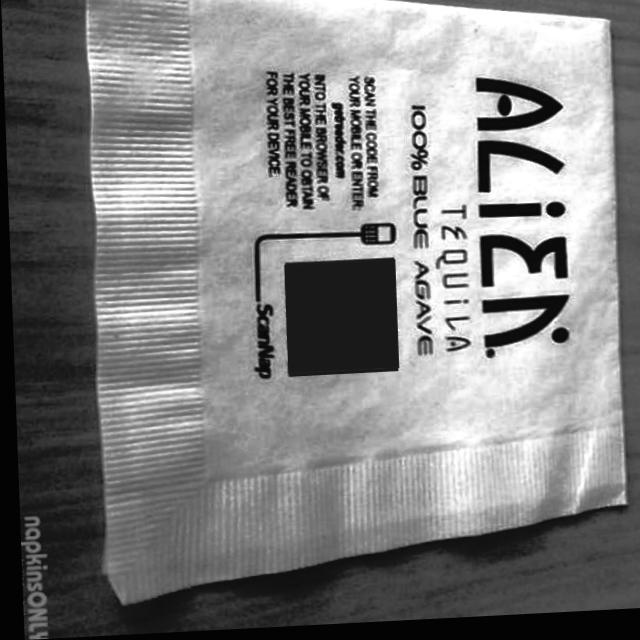qr_code: (281, 262, 395, 379)
